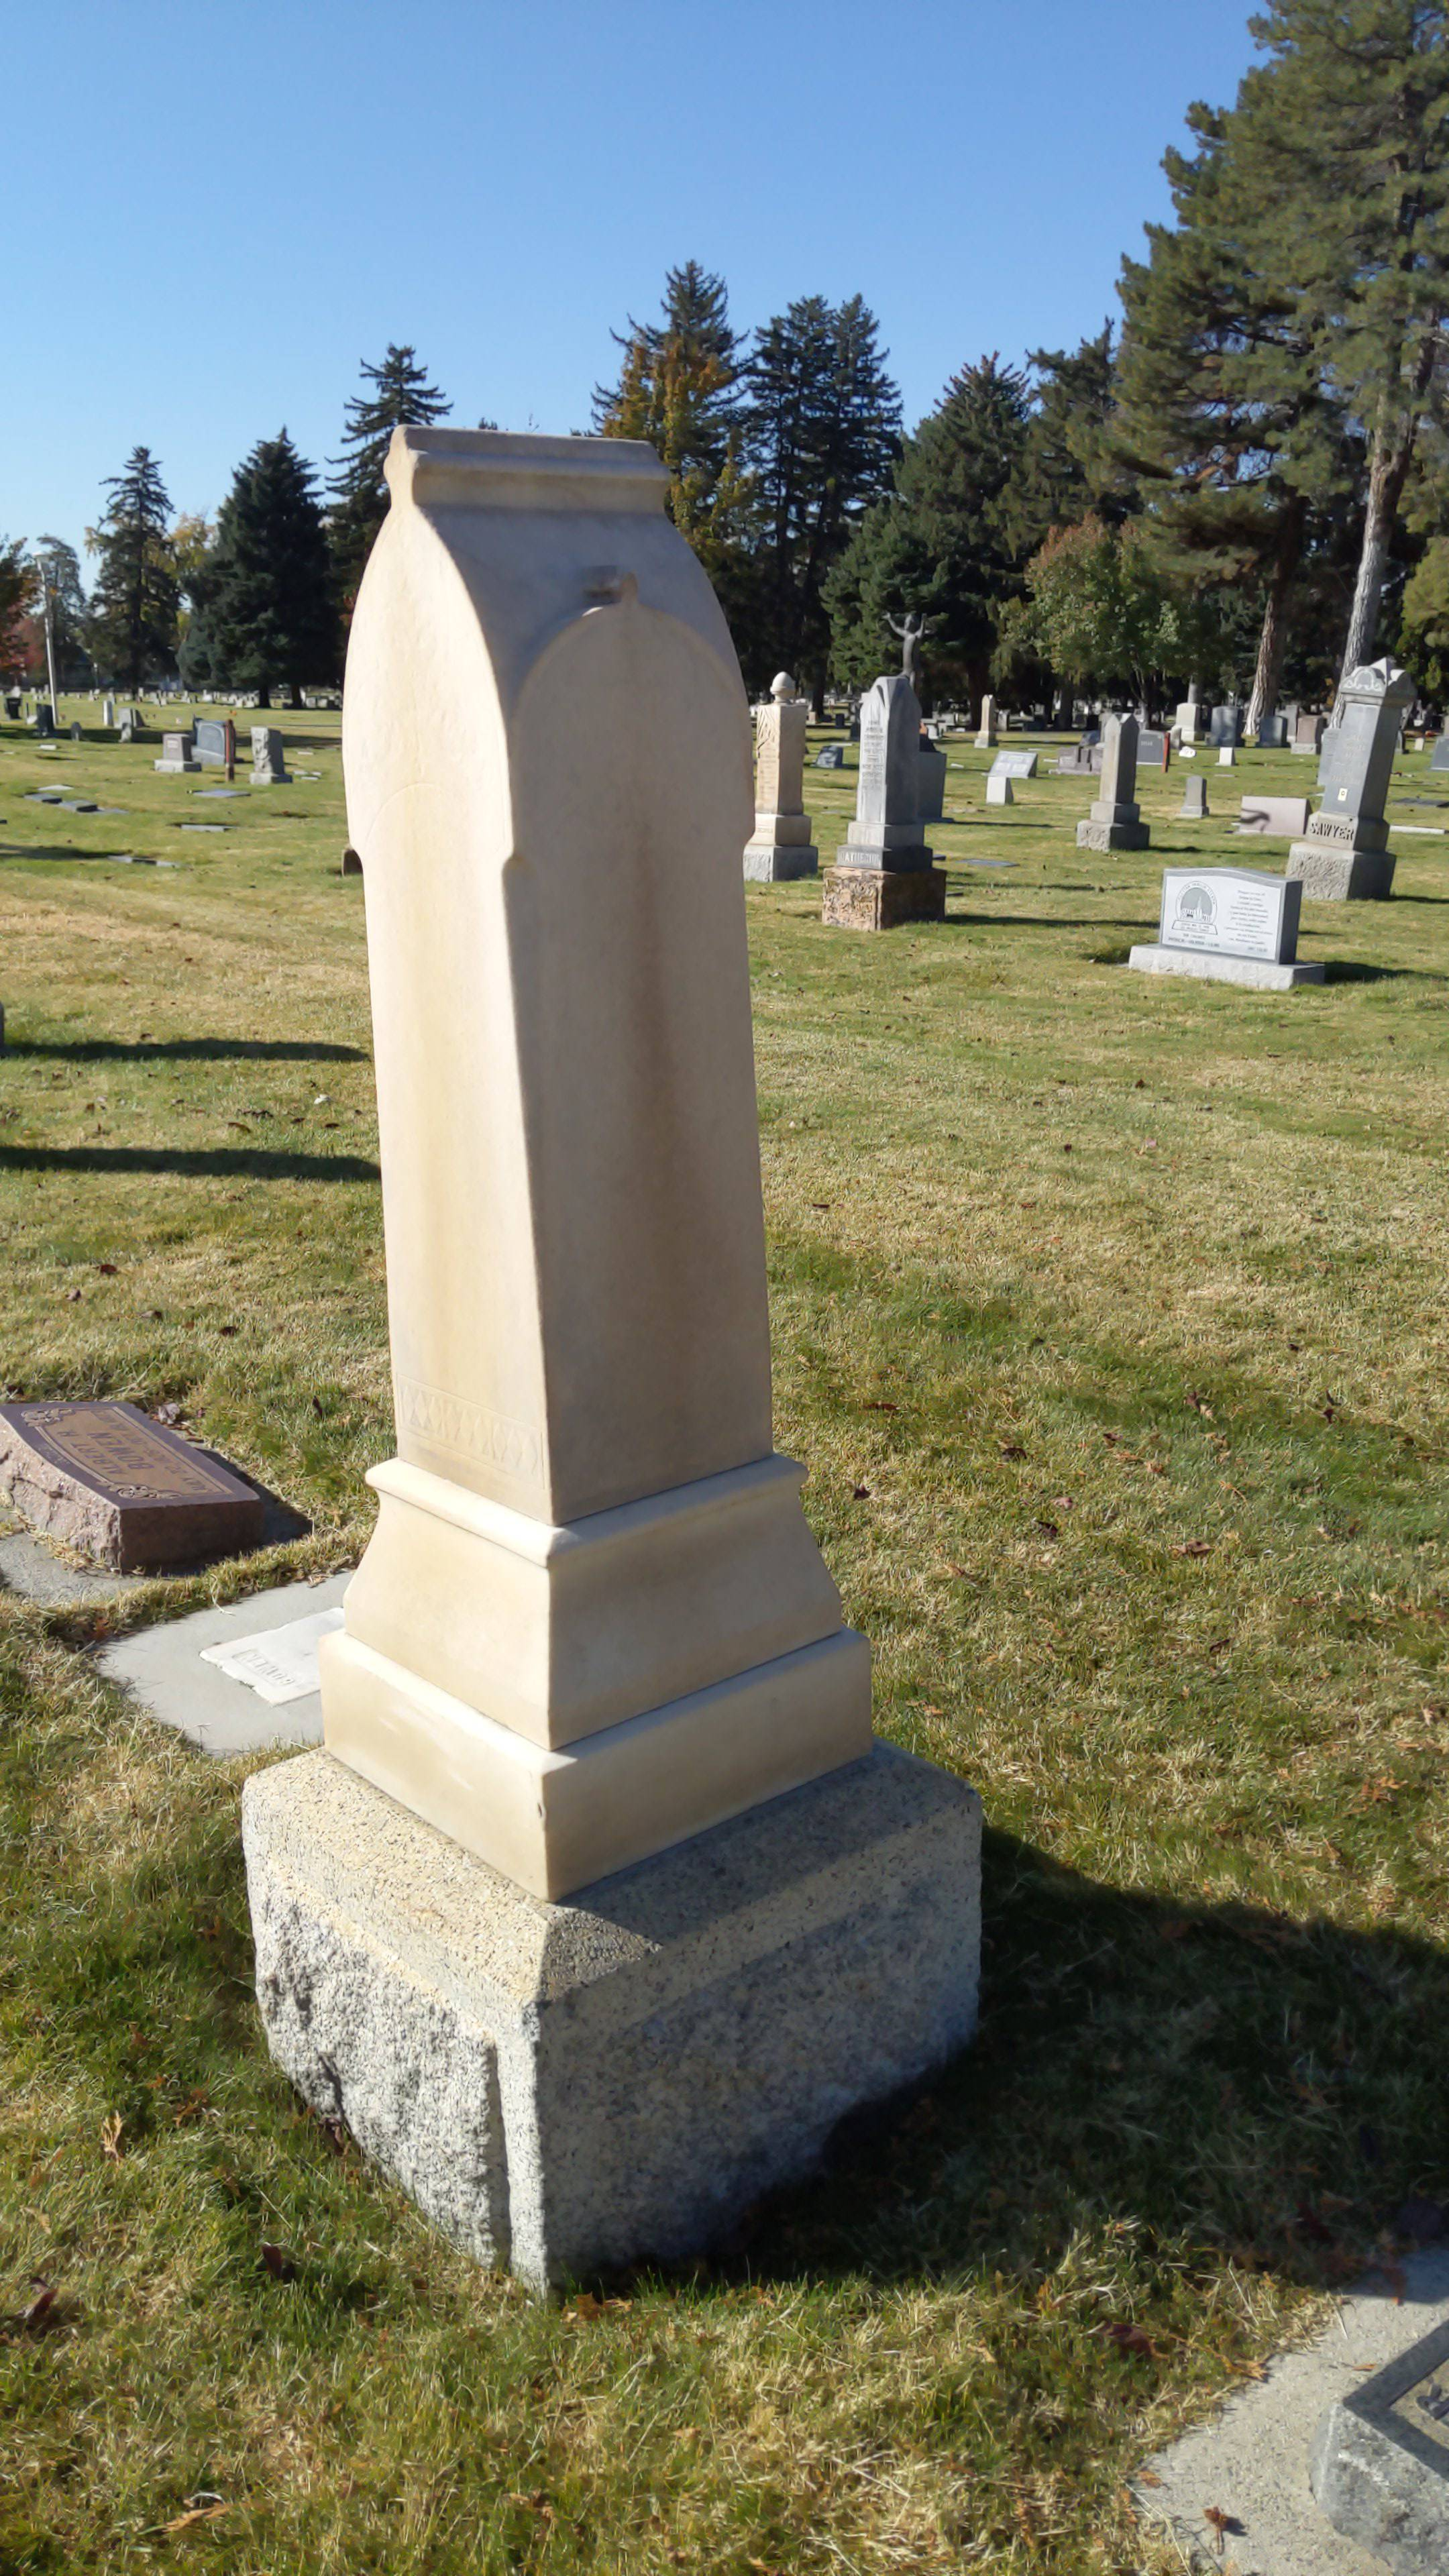obelisk: (311, 419, 860, 1890)
